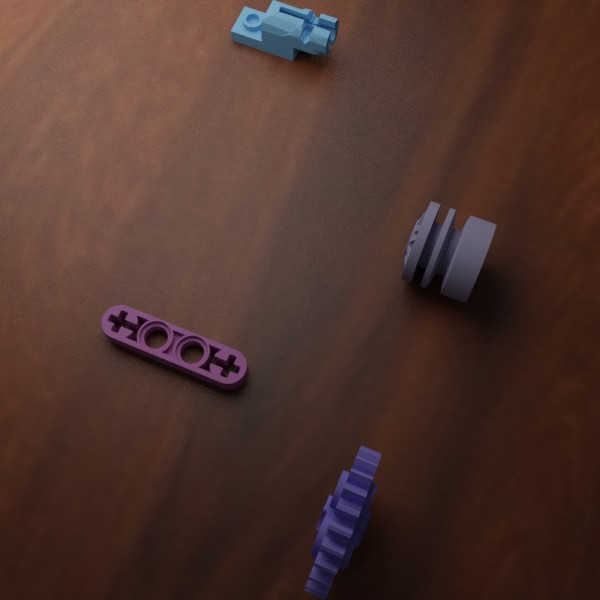lego: (101, 304, 247, 389), (304, 445, 381, 600), (401, 201, 496, 303), (230, 0, 338, 61)
